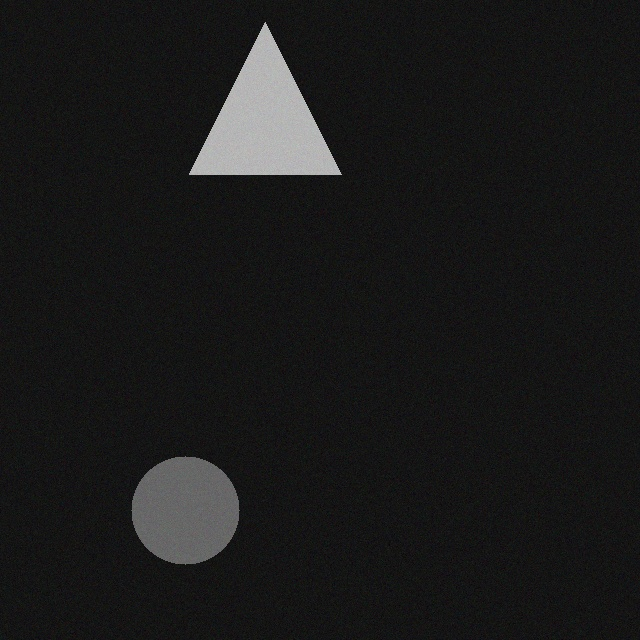circle: (125, 465, 233, 573)
triangle: (183, 31, 335, 183)
